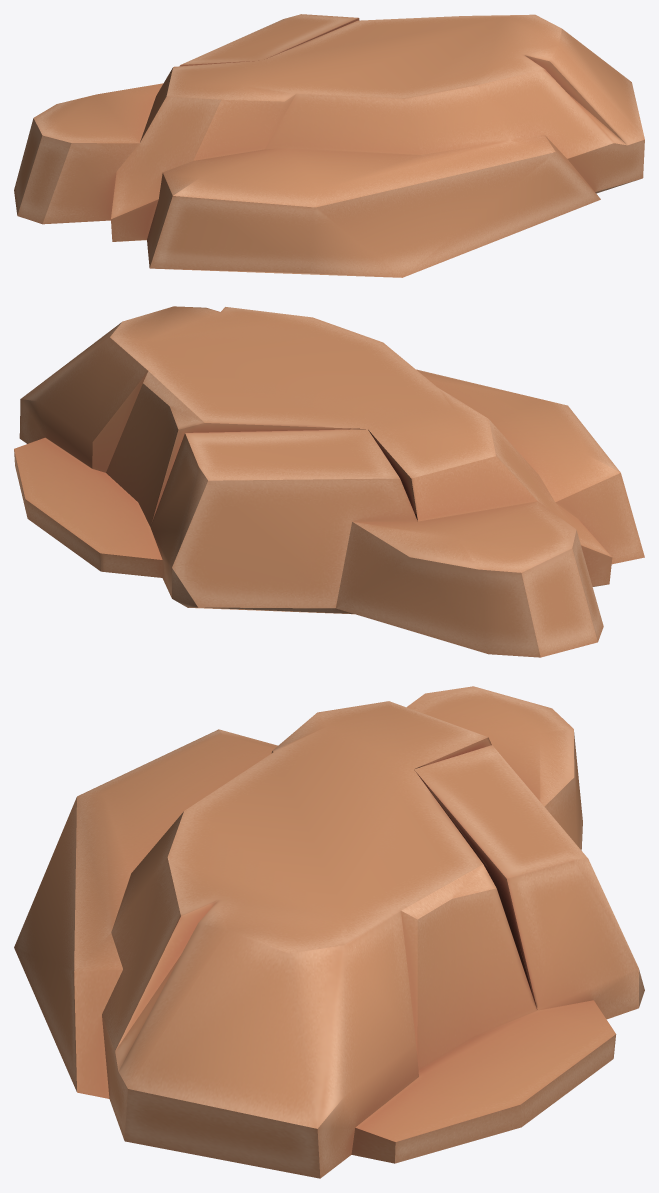
The model's file is desert_rock_04.glb.
The picture shows the model from 3 angles, top to bottom: view 1: azimuth 30°, elevation 25°; view 2: azimuth 150°, elevation 25°; view 3: azimuth 270°, elevation 25°; orthographic projection. The views are drawn at different scales.
Parts seen in each view (by area): view 1: Rock_4_Rock_4_0; view 2: Rock_4_Rock_4_0; view 3: Rock_4_Rock_4_0.
Part boxes in pixels (x1,y1,x2,y2): Rock_4_Rock_4_0: [14, 14, 644, 277]; Rock_4_Rock_4_0: [14, 306, 644, 657]; Rock_4_Rock_4_0: [14, 686, 644, 1178].
Size of the model in its own units: 10.08 by 2.2 by 6.68.
1 material, 1 textured.
